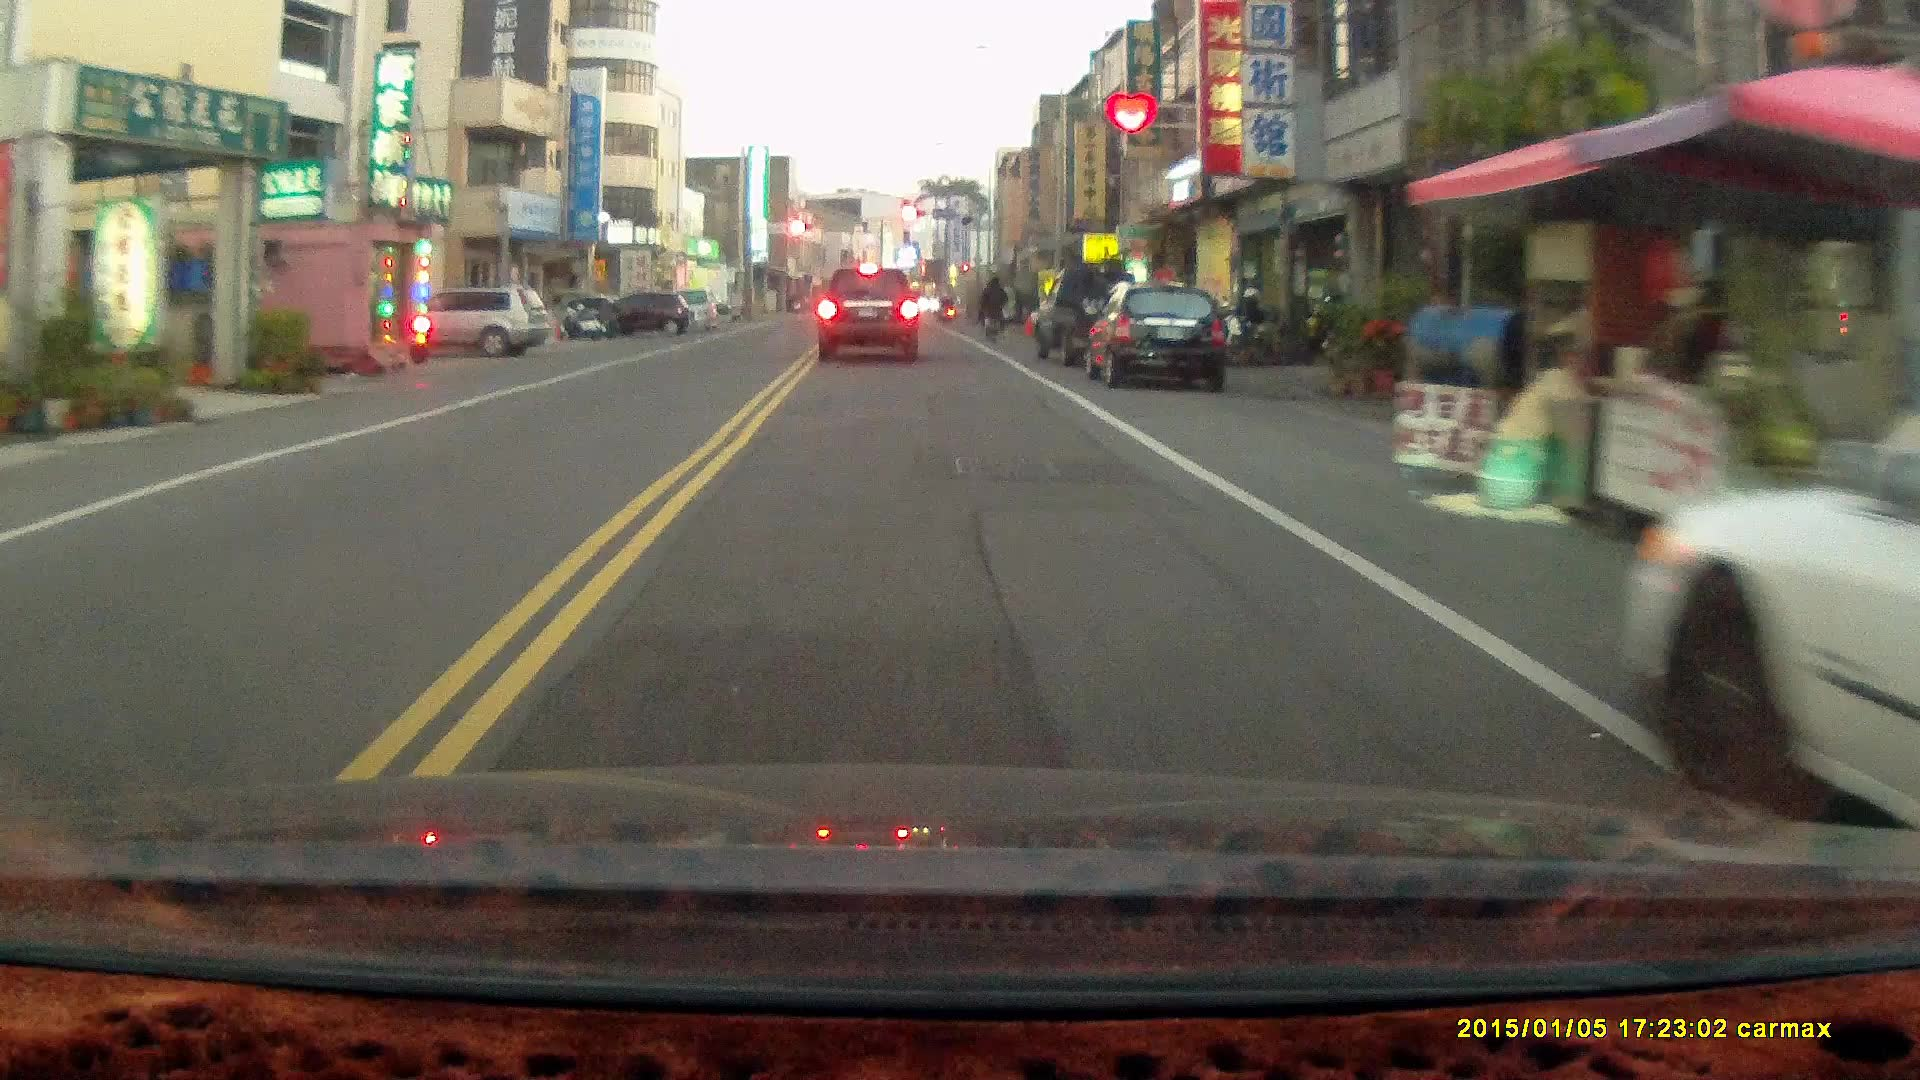rider: (977, 276, 1008, 347)
vehicle: (1628, 305, 1920, 831), (1089, 282, 1234, 395), (373, 286, 552, 360), (816, 265, 923, 365), (577, 292, 695, 336)
